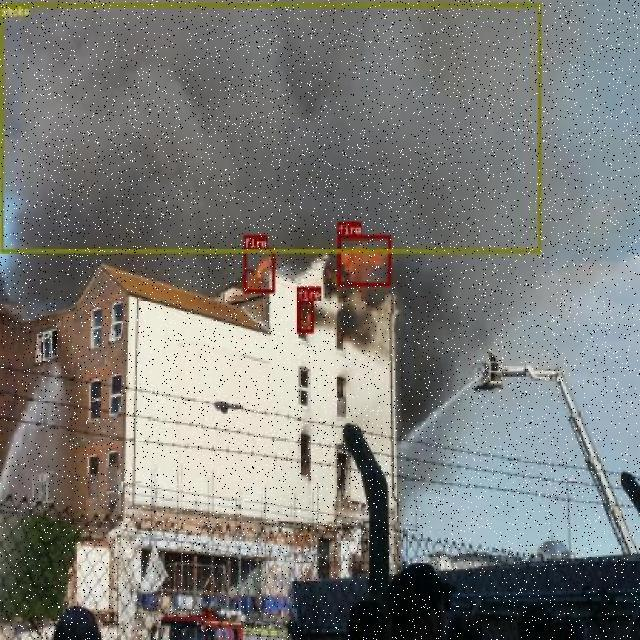Smoke: (0, 3, 535, 251)
